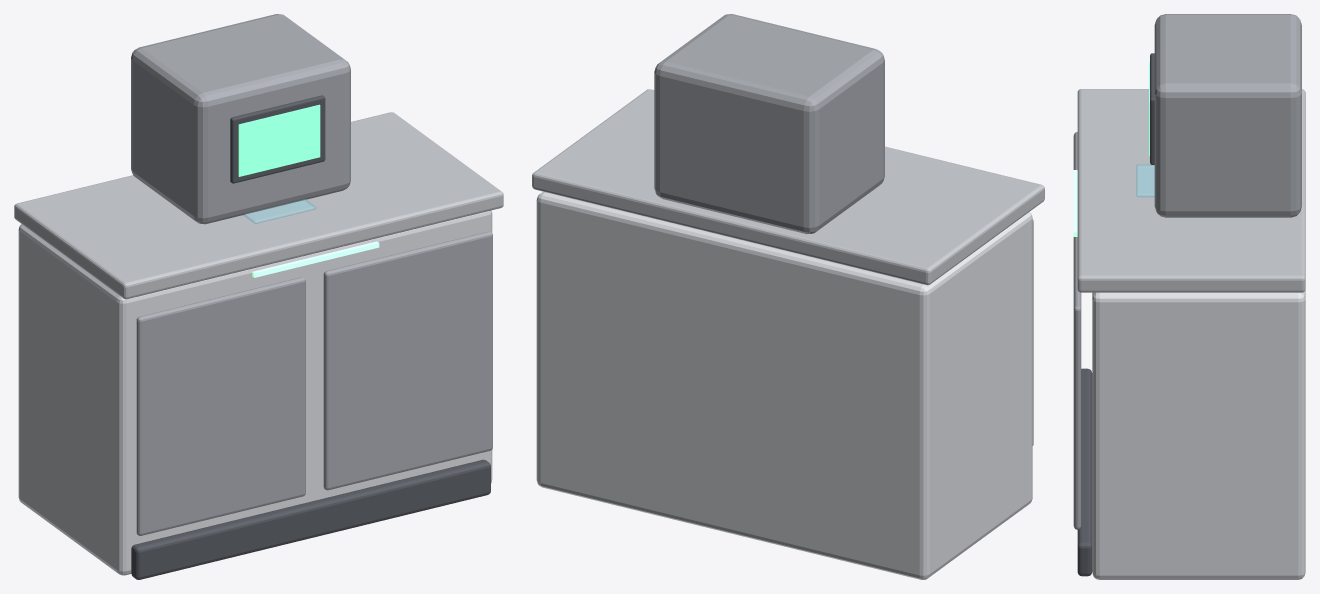
File: kitchen_counter_nutri_synth.glb
The picture shows the model from 3 angles, left to right: view 1: azimuth 30°, elevation 25°; view 2: azimuth 150°, elevation 25°; view 3: azimuth 270°, elevation 25°; orthographic projection. The views are drawn at different scales.
Visible parts, largest first — view 1: GD_kitchen_counter_nutri_synth__m3, GD_kitchen_counter_nutri_synth__m0, GD_kitchen_counter_nutri_synth__m2, GD_kitchen_counter_nutri_synth__m1, GD_kitchen_counter_nutri_synth__m4, GD_kitchen_counter_nutri_synth__m6, GD_kitchen_counter_nutri_synth__m5; view 2: GD_kitchen_counter_nutri_synth__m0, GD_kitchen_counter_nutri_synth__m3, GD_kitchen_counter_nutri_synth__m2; view 3: GD_kitchen_counter_nutri_synth__m0, GD_kitchen_counter_nutri_synth__m3, GD_kitchen_counter_nutri_synth__m2, GD_kitchen_counter_nutri_synth__m1, GD_kitchen_counter_nutri_synth__m5, GD_kitchen_counter_nutri_synth__m6.
Boxes of the visible parts, x1,y1,x2,y2 form: GD_kitchen_counter_nutri_synth__m3: (131, 14, 492, 535); GD_kitchen_counter_nutri_synth__m0: (18, 210, 492, 575); GD_kitchen_counter_nutri_synth__m2: (14, 112, 503, 299); GD_kitchen_counter_nutri_synth__m1: (131, 95, 490, 579); GD_kitchen_counter_nutri_synth__m4: (238, 104, 320, 176); GD_kitchen_counter_nutri_synth__m6: (252, 241, 379, 277); GD_kitchen_counter_nutri_synth__m5: (243, 199, 316, 223); GD_kitchen_counter_nutri_synth__m0: (536, 191, 1032, 579); GD_kitchen_counter_nutri_synth__m3: (654, 14, 1033, 445); GD_kitchen_counter_nutri_synth__m2: (532, 89, 1044, 285); GD_kitchen_counter_nutri_synth__m0: (1092, 289, 1305, 579); GD_kitchen_counter_nutri_synth__m3: (1073, 14, 1301, 529); GD_kitchen_counter_nutri_synth__m2: (1077, 89, 1305, 292); GD_kitchen_counter_nutri_synth__m1: (1077, 53, 1154, 576); GD_kitchen_counter_nutri_synth__m5: (1136, 164, 1154, 197); GD_kitchen_counter_nutri_synth__m6: (1073, 170, 1077, 236).
Bounding box in the file's own units: 1.22 × 1.32 × 0.631.
